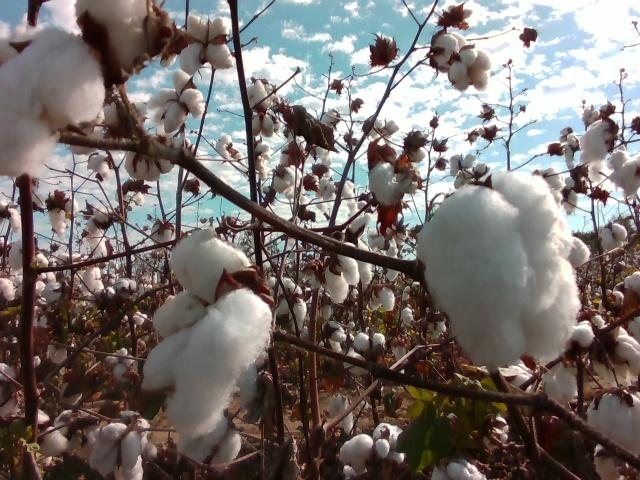cotton_ready: (418, 169, 579, 367), (142, 227, 271, 439), (0, 26, 107, 177), (73, 0, 159, 69), (577, 322, 640, 391), (142, 69, 204, 131), (175, 417, 244, 469), (586, 394, 640, 457), (178, 15, 235, 74), (127, 135, 191, 180), (88, 422, 141, 476), (39, 407, 92, 459), (320, 242, 358, 305), (339, 436, 406, 471), (266, 275, 307, 332), (447, 47, 492, 92), (103, 100, 150, 142), (329, 390, 371, 436), (346, 211, 371, 287), (346, 331, 388, 375), (239, 351, 267, 414), (368, 162, 408, 206), (501, 357, 547, 395), (579, 118, 614, 167), (46, 193, 80, 237), (83, 206, 115, 252), (434, 29, 467, 69), (595, 444, 631, 480), (546, 366, 579, 405), (532, 168, 563, 208), (431, 460, 488, 480), (611, 158, 640, 196), (0, 362, 19, 419), (320, 319, 349, 356), (102, 347, 135, 379), (8, 236, 39, 269), (274, 163, 302, 198), (246, 80, 278, 110), (365, 286, 396, 312), (251, 114, 280, 136), (578, 312, 606, 329)
